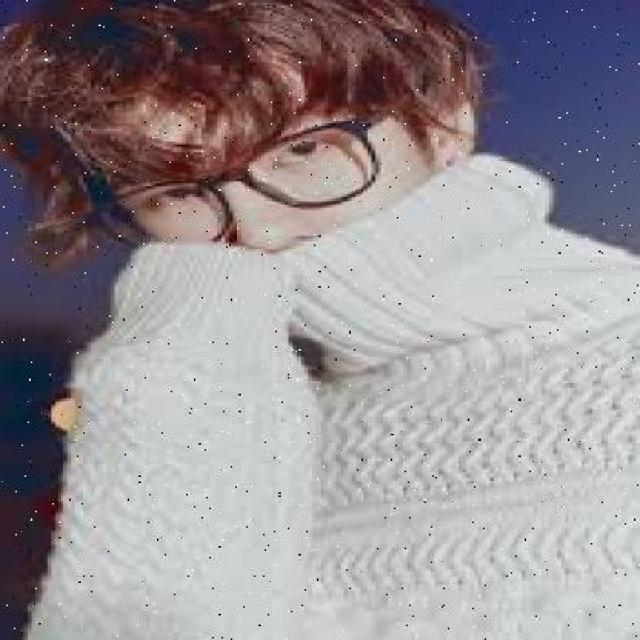glasses: (72, 120, 399, 249)
